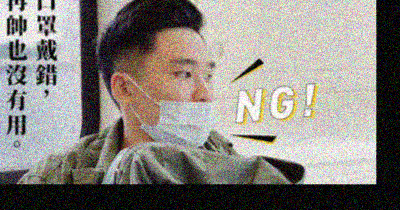mask_weared_incorrect: (139, 55, 217, 147)
